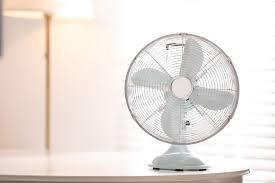fan: (113, 28, 240, 171)
table: (1, 150, 247, 183)
